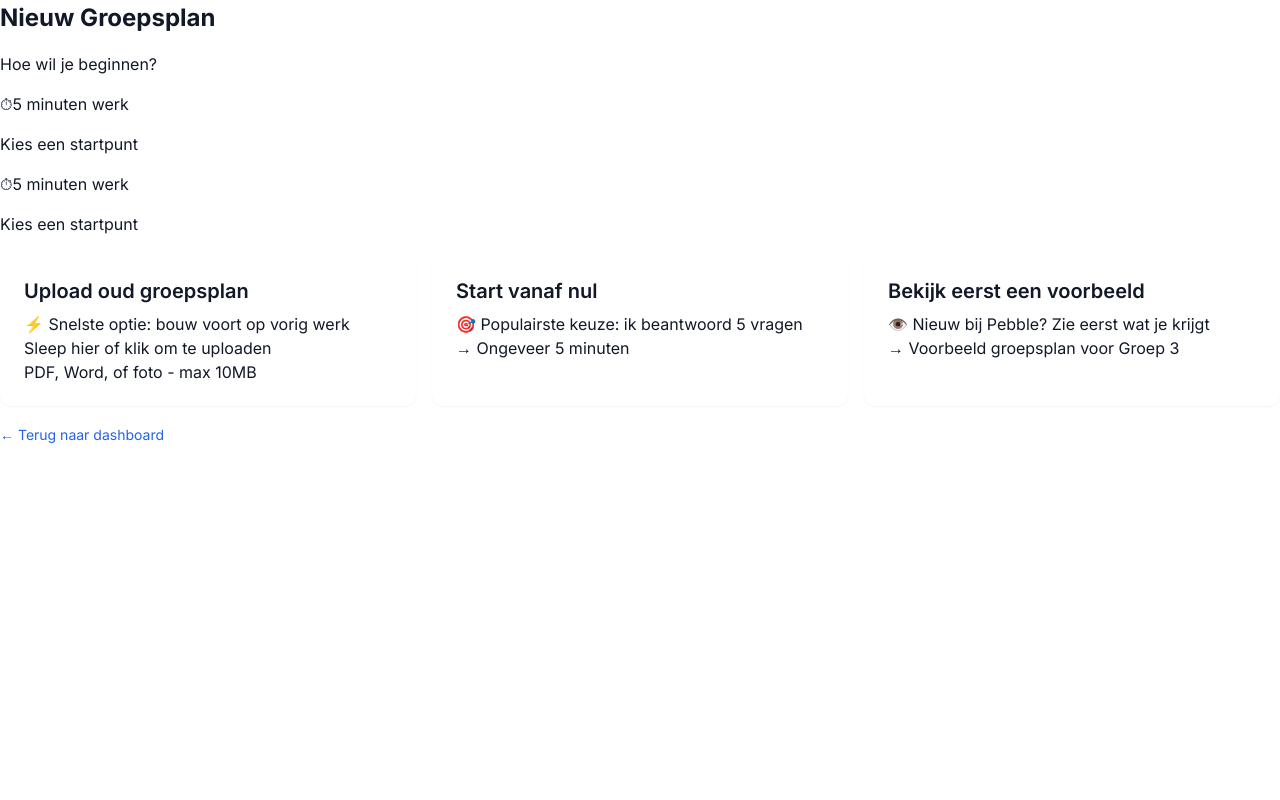
Test: DecisionPoint interactions › sample card opens and closes modal
Click the button with test id "card-sample": [1072, 329] box [864,252,1279,406]
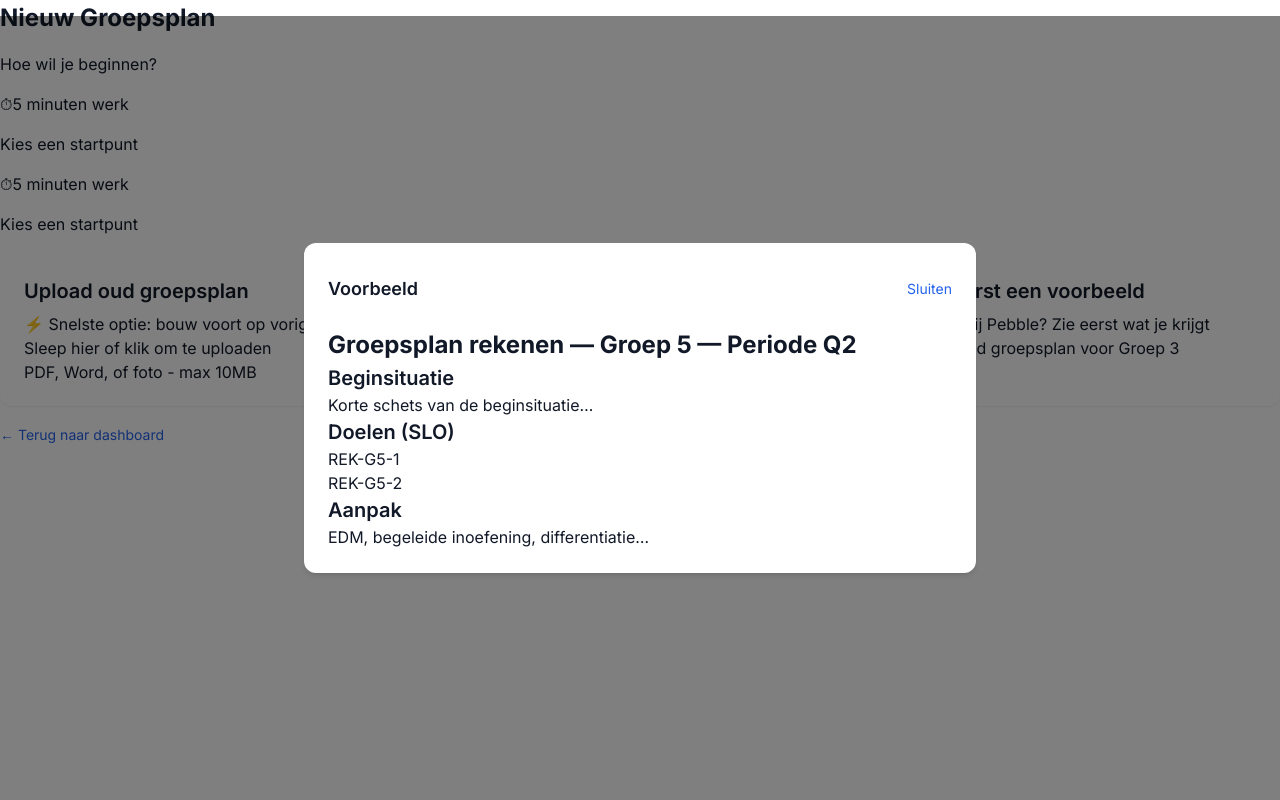
Check: the dialog is shown
Click the button "Sluiten": [930, 289] box [907,267,952,311]
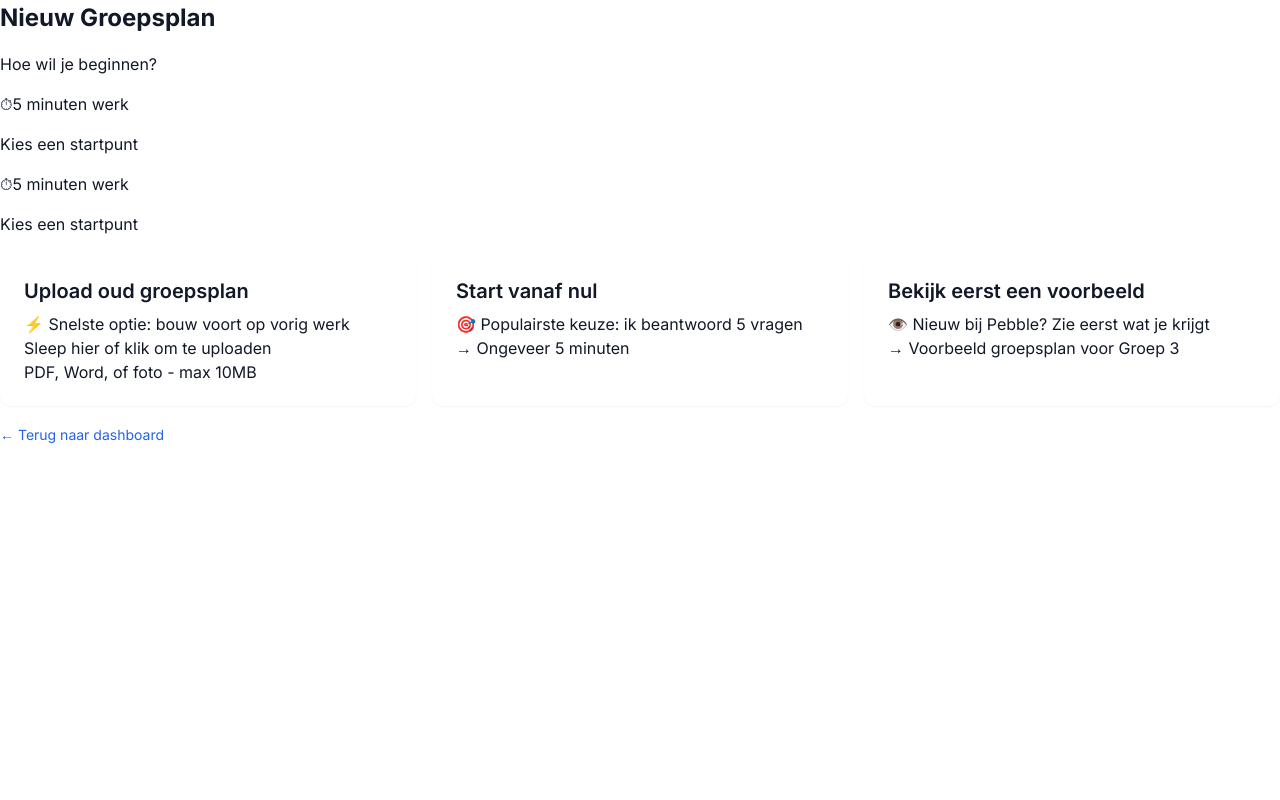
Check: the dialog is gone
